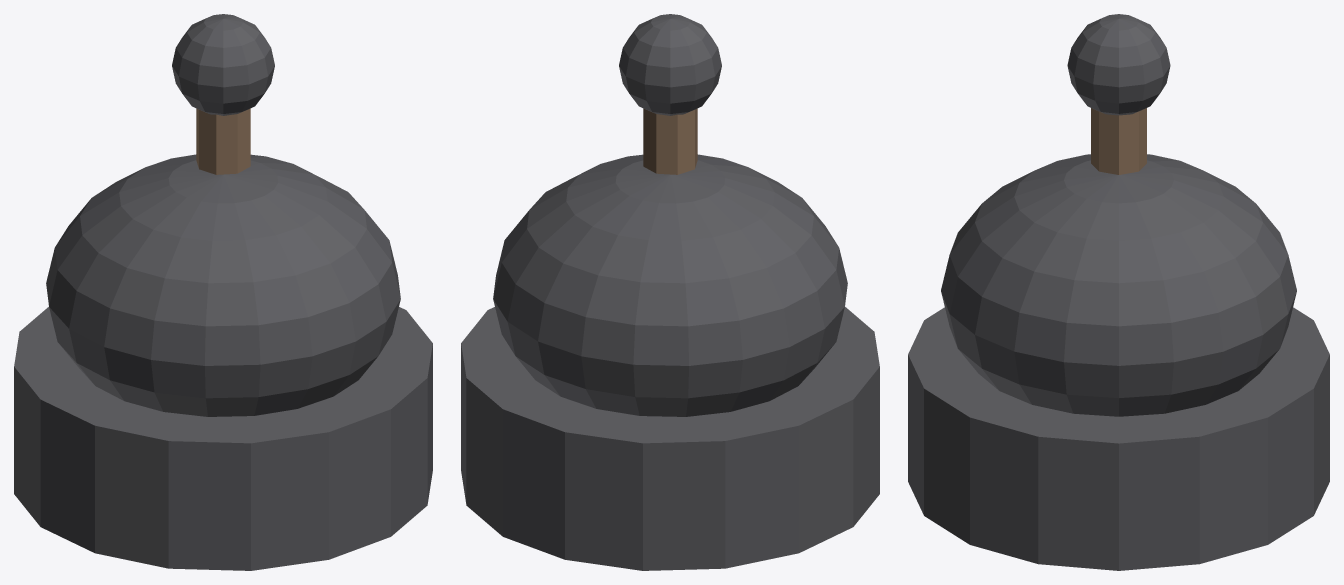
The picture shows the model from 3 angles, left to right: view 1: azimuth 30°, elevation 25°; view 2: azimuth 150°, elevation 25°; view 3: azimuth 270°, elevation 25°; orthographic projection.
Parts seen in each view (by area): view 1: counterBell; view 2: counterBell; view 3: counterBell.
Boxes of the visible parts, x1,y1,x2,y2 form: counterBell: (14,14,432,570); counterBell: (461,14,879,570); counterBell: (908,14,1329,570).
Size of the model in its own units: 0.09 by 0.109 by 0.09.
